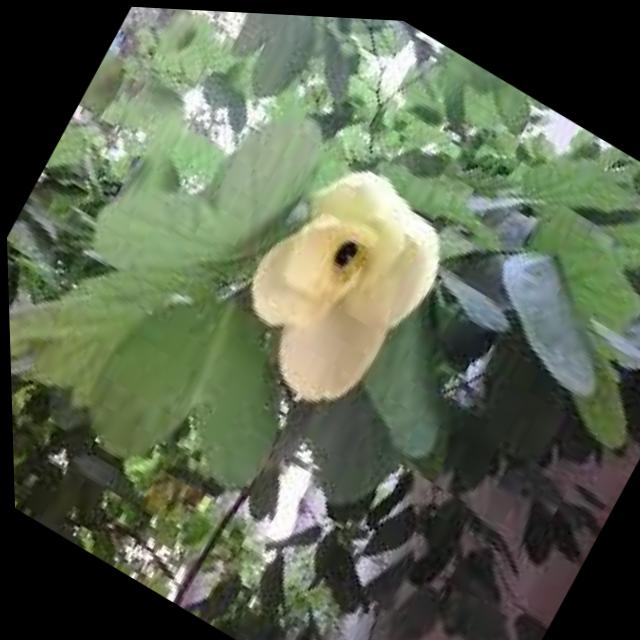Flower: (216, 125, 481, 420)
